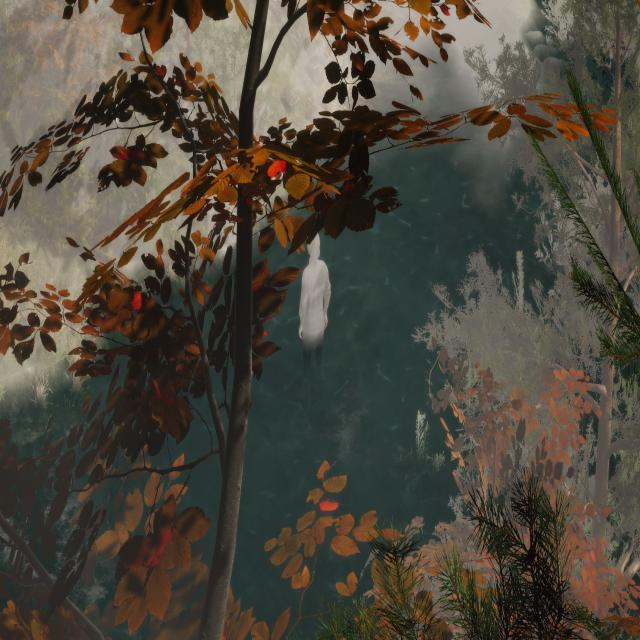Human: (294, 221, 336, 372)
